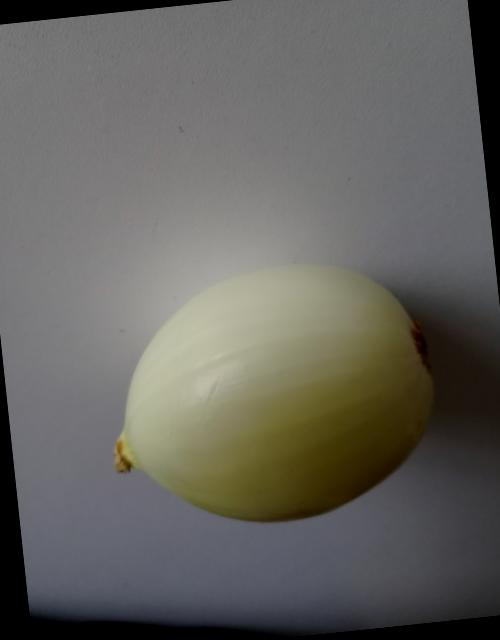Cebolla-: (54, 212, 491, 575)
